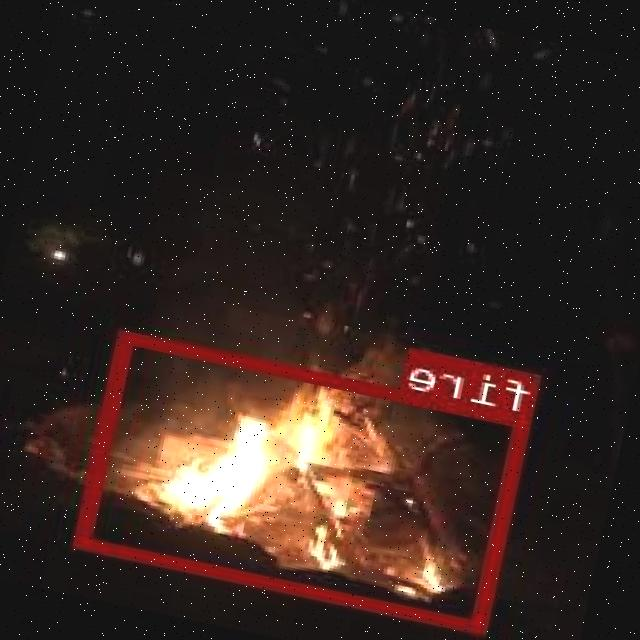fire: (77, 328, 533, 632)
